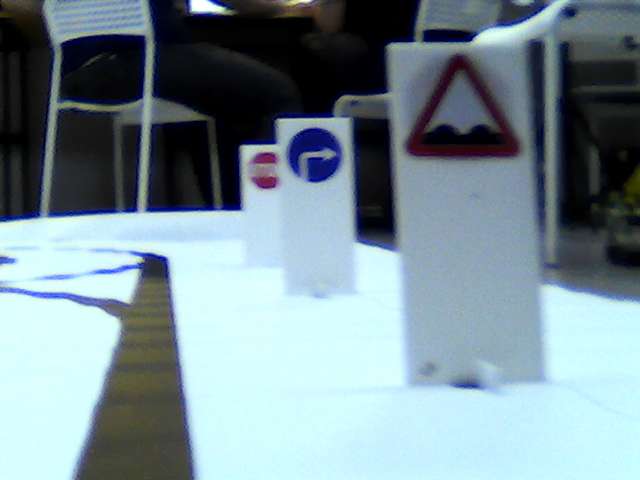Nerov: (407, 52, 520, 157)
Right: (287, 126, 342, 178)
Stop: (247, 150, 276, 194)
